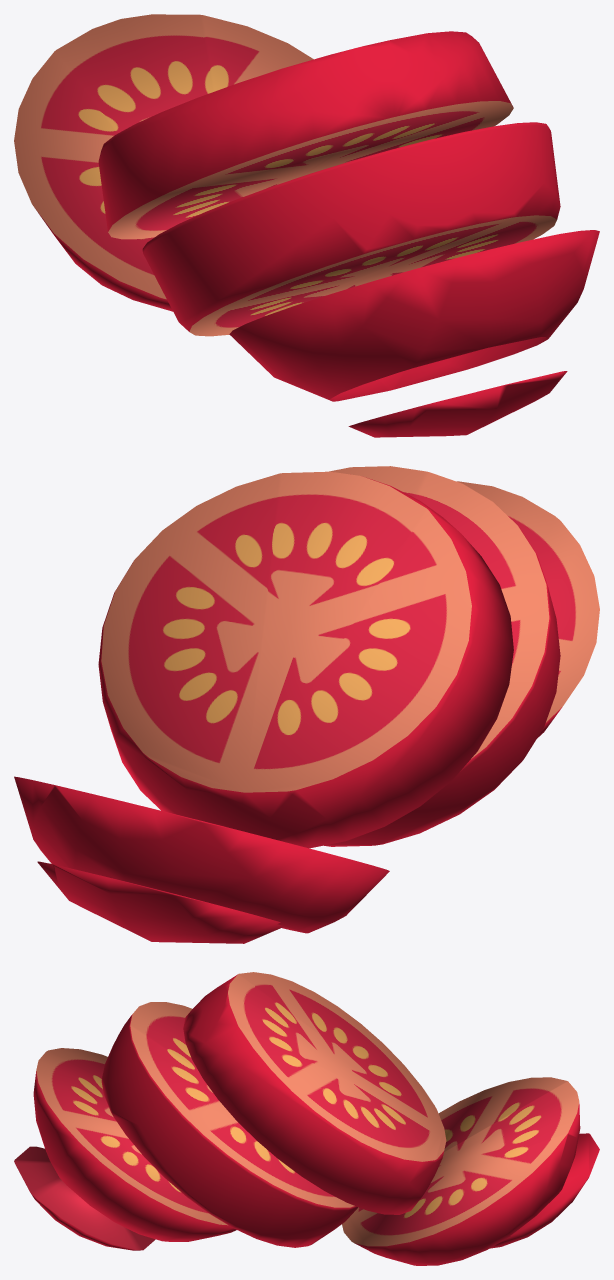
The model's file is tomatoSliced.fbx.
The picture shows the model from 3 angles, top to bottom: view 1: azimuth 30°, elevation 25°; view 2: azimuth 150°, elevation 25°; view 3: azimuth 270°, elevation 25°; orthographic projection. The views are drawn at different scales.
Visible parts, largest first — view 1: Sphere.001, Sphere.002, Sphere.003, Sphere.005, Sphere.000; view 2: Sphere.002, Sphere.005, Sphere.001, Sphere.003, Sphere.004; view 3: Sphere.002, Sphere.001, Sphere.005, Sphere.003, Sphere.000, Sphere.004.
Boxes of the visible parts, left/top/right/bottom form: Sphere.001: left=142, top=122, right=560, bottom=336; Sphere.002: left=98, top=31, right=513, bottom=239; Sphere.003: left=229, top=230, right=599, bottom=401; Sphere.005: left=14, top=14, right=313, bottom=311; Sphere.000: left=348, top=371, right=567, bottom=437; Sphere.002: left=98, top=471, right=513, bottom=848; Sphere.005: left=14, top=776, right=389, bottom=933; Sphere.001: left=324, top=466, right=560, bottom=846; Sphere.003: left=457, top=481, right=599, bottom=738; Sphere.004: left=37, top=861, right=284, bottom=943; Sphere.002: left=183, top=972, right=446, bottom=1214; Sphere.001: left=101, top=1002, right=358, bottom=1247; Sphere.005: left=342, top=1077, right=580, bottom=1265; Sphere.003: left=33, top=1048, right=236, bottom=1241; Sphere.000: left=14, top=1146, right=155, bottom=1250; Sphere.004: left=490, top=1133, right=599, bottom=1248.
Size of the model in its own units: 36 by 32.4 by 66.95.
